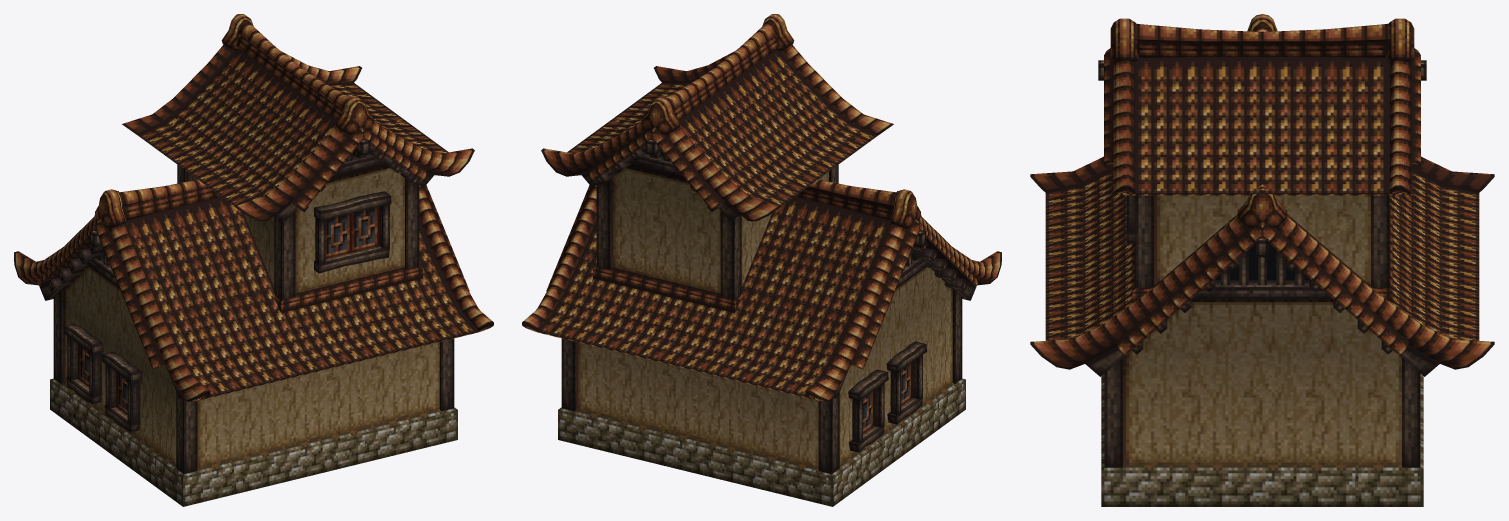
The model's file is EnvBdgMD_Desert_A_Outdoor_House_F.FBX.
The picture shows the model from 3 angles, left to right: view 1: azimuth 30°, elevation 25°; view 2: azimuth 150°, elevation 25°; view 3: azimuth 270°, elevation 25°; orthographic projection. The views are drawn at different scales.
Parts seen in each view (by area): view 1: EnvBdgMD_Desert_A_Outdoor_House_F; view 2: EnvBdgMD_Desert_A_Outdoor_House_F; view 3: EnvBdgMD_Desert_A_Outdoor_House_F.
Boxes of the visible parts, box(x1,y1,x2,y2) form: EnvBdgMD_Desert_A_Outdoor_House_F: box(14, 14, 493, 506); EnvBdgMD_Desert_A_Outdoor_House_F: box(522, 14, 1001, 506); EnvBdgMD_Desert_A_Outdoor_House_F: box(1030, 14, 1494, 506).
Size of the model in its own units: 734 by 770 by 750.
